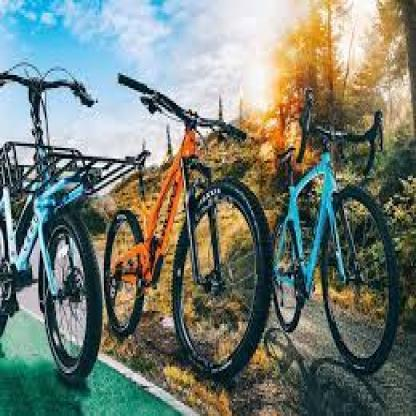Bike: (104, 75, 270, 382), (273, 92, 400, 383), (0, 67, 103, 380)
